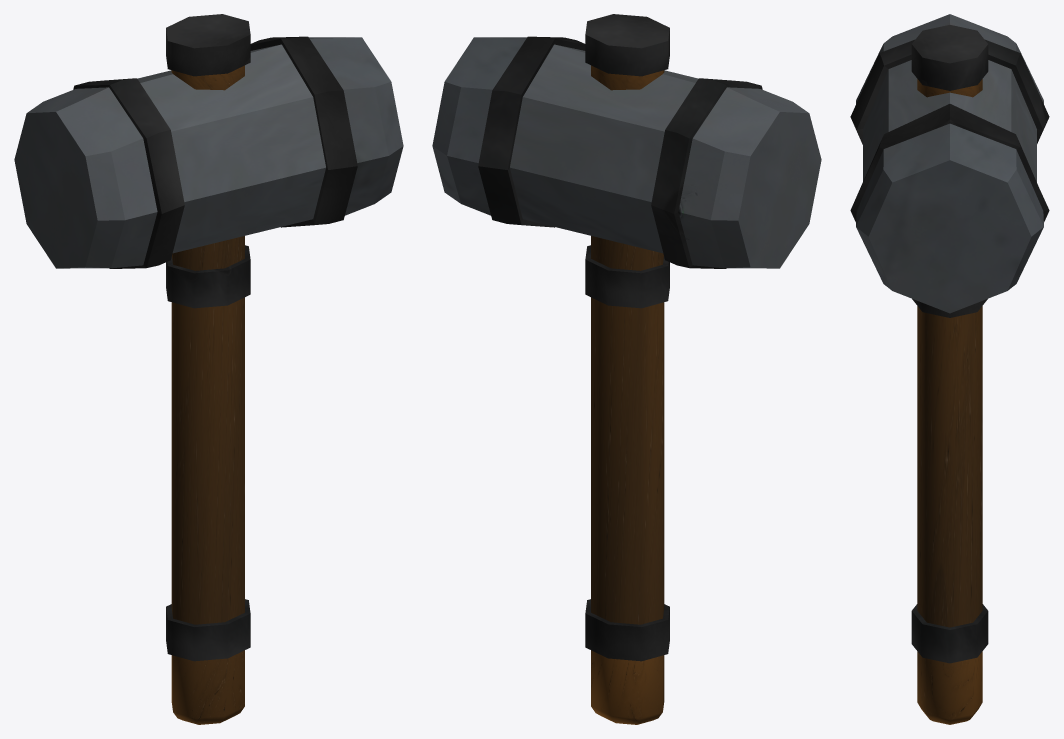
Rendered from Mallet.fbx.
3 renders of one model, left to right at view 1: azimuth 30°, elevation 25°; view 2: azimuth 150°, elevation 25°; view 3: azimuth 270°, elevation 25°, orthographic. The views are drawn at different scales.
Visible parts, largest first — view 1: Cylinder022, Cylinder023; view 2: Cylinder022, Cylinder023; view 3: Cylinder022, Cylinder023.
Part boxes in pixels (x1=…): Cylinder022: x1=14, y1=36, x2=403, y2=268; Cylinder023: x1=166, y1=14, x2=250, y2=724; Cylinder022: x1=432, y1=36, x2=821, y2=268; Cylinder023: x1=585, y1=14, x2=669, y2=724; Cylinder022: x1=850, y1=14, x2=1049, y2=313; Cylinder023: x1=911, y1=25, x2=988, y2=724.
Bounding box in the file's own units: 1.09 × 2.34 × 0.6283.
